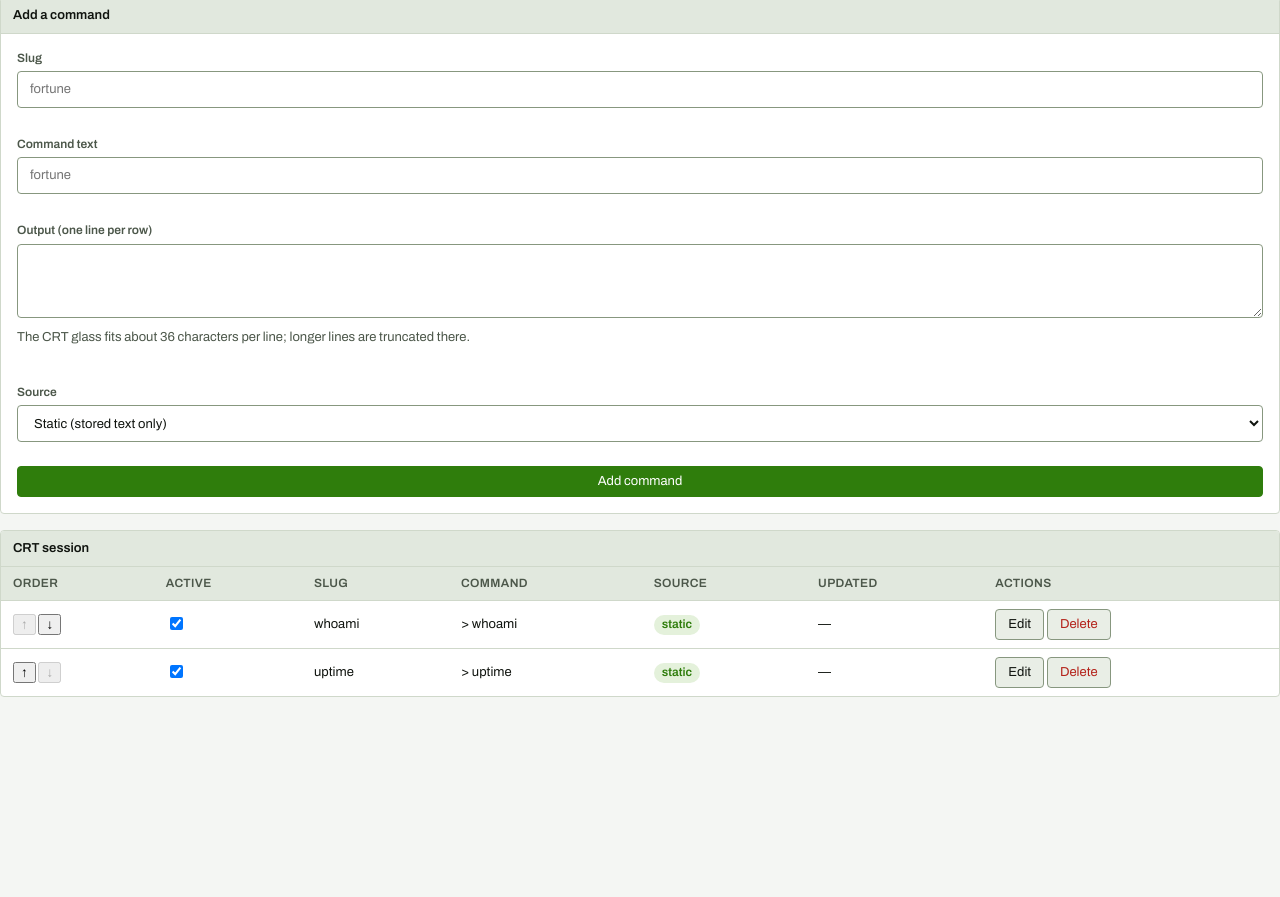
Test: CrtCommands — per-row width warning is announced (#0396) › shows a role="status" warning in the row editor once a line crosses the CRT width budget
Click the button "Edit" in the row of "> whoami": (1020, 625) [995, 609, 1044, 640]
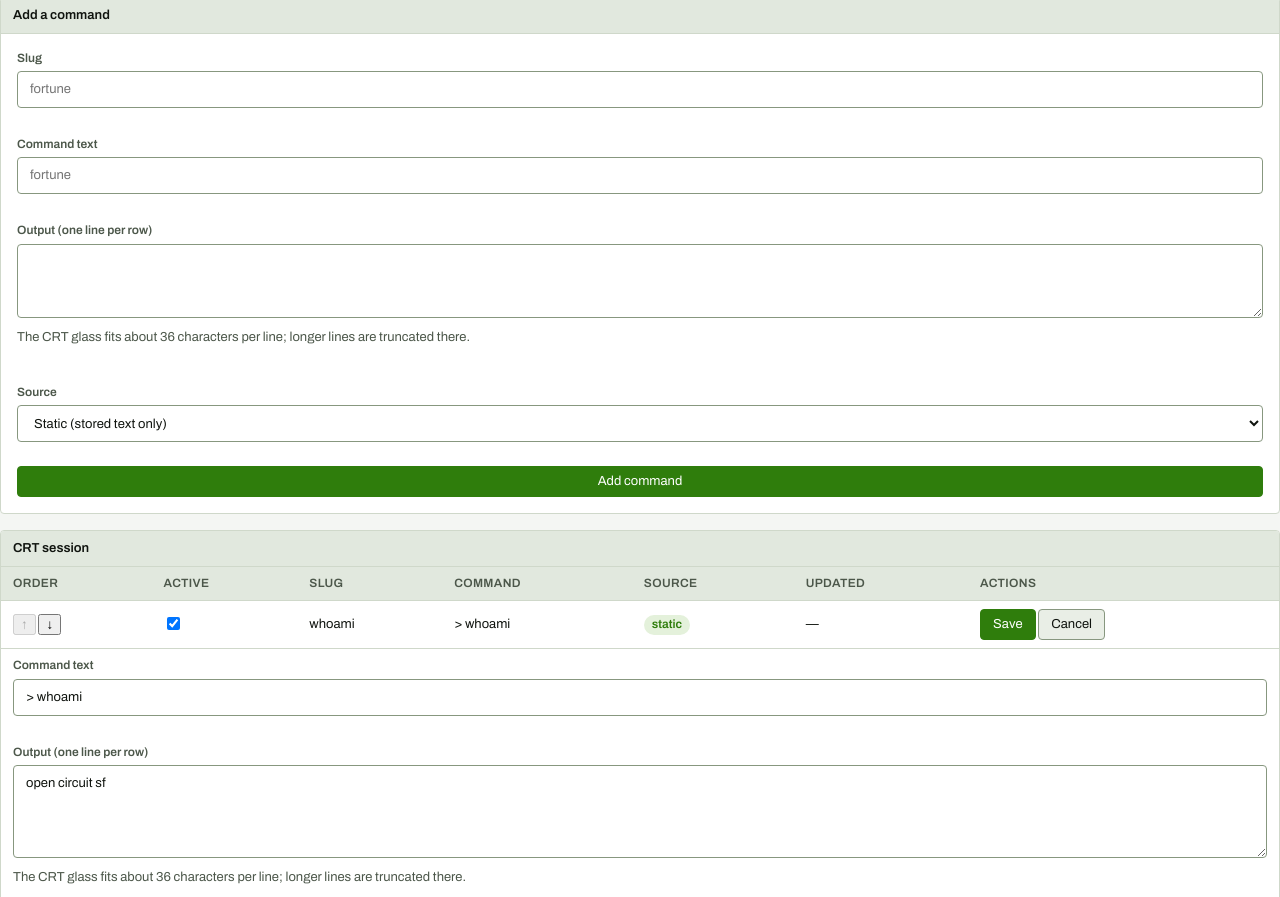
Check: the text box with id "crt-edit-output-1" is shown
Note: 37 characters -- one over CRT_LINE_CHARS (36).
Replace the text in the text box with id "crt-edit-output-1" with "aaaaaaaaaaaaaaaaaaaaaaaaaaaaaaaaaaaaa": (640, 812) [13, 765, 1267, 858]
(page scrolled)
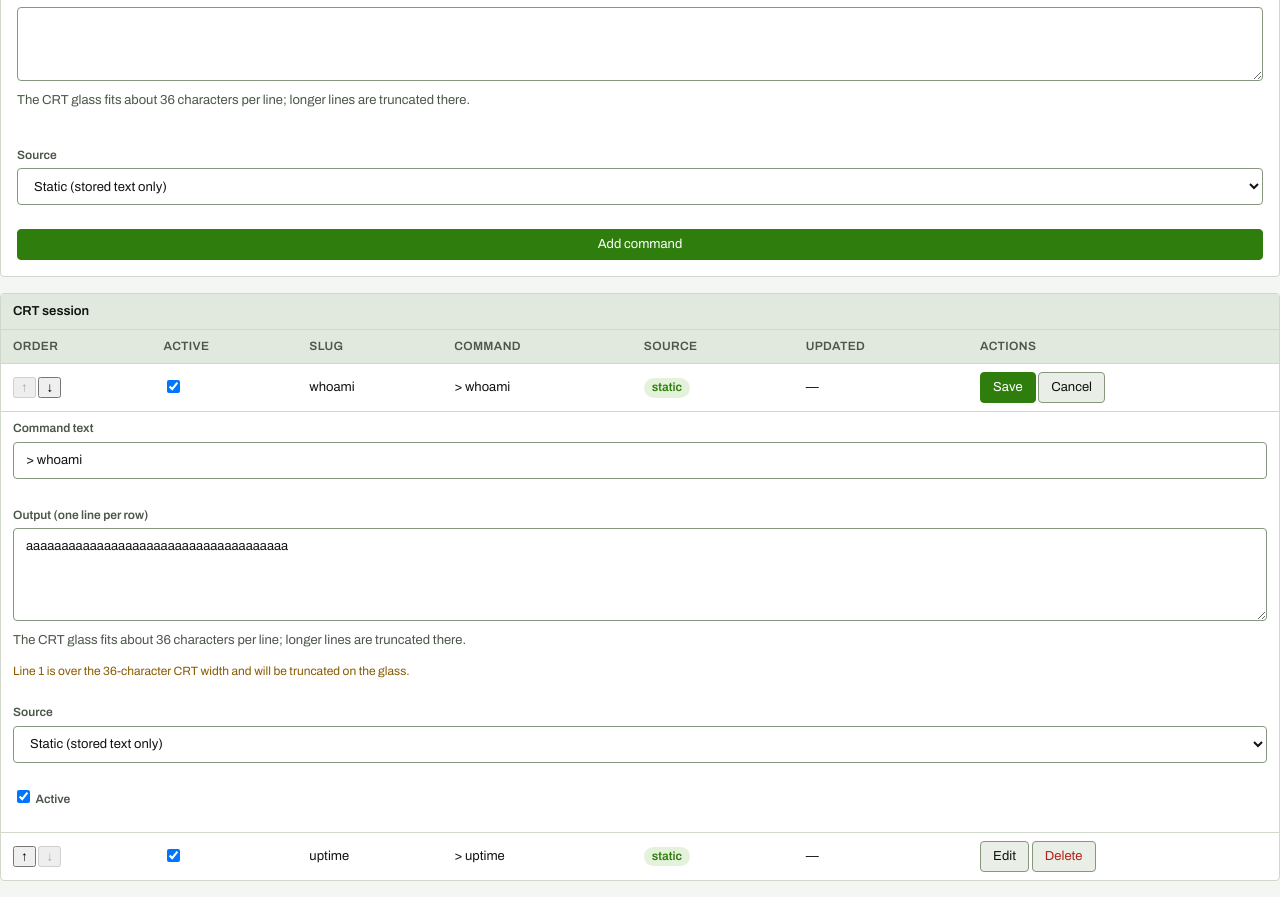
Check: the text "Line 1 is over the 36-character CRT width and will be truncated on the glass." is shown, box [13, 664, 410, 678]
